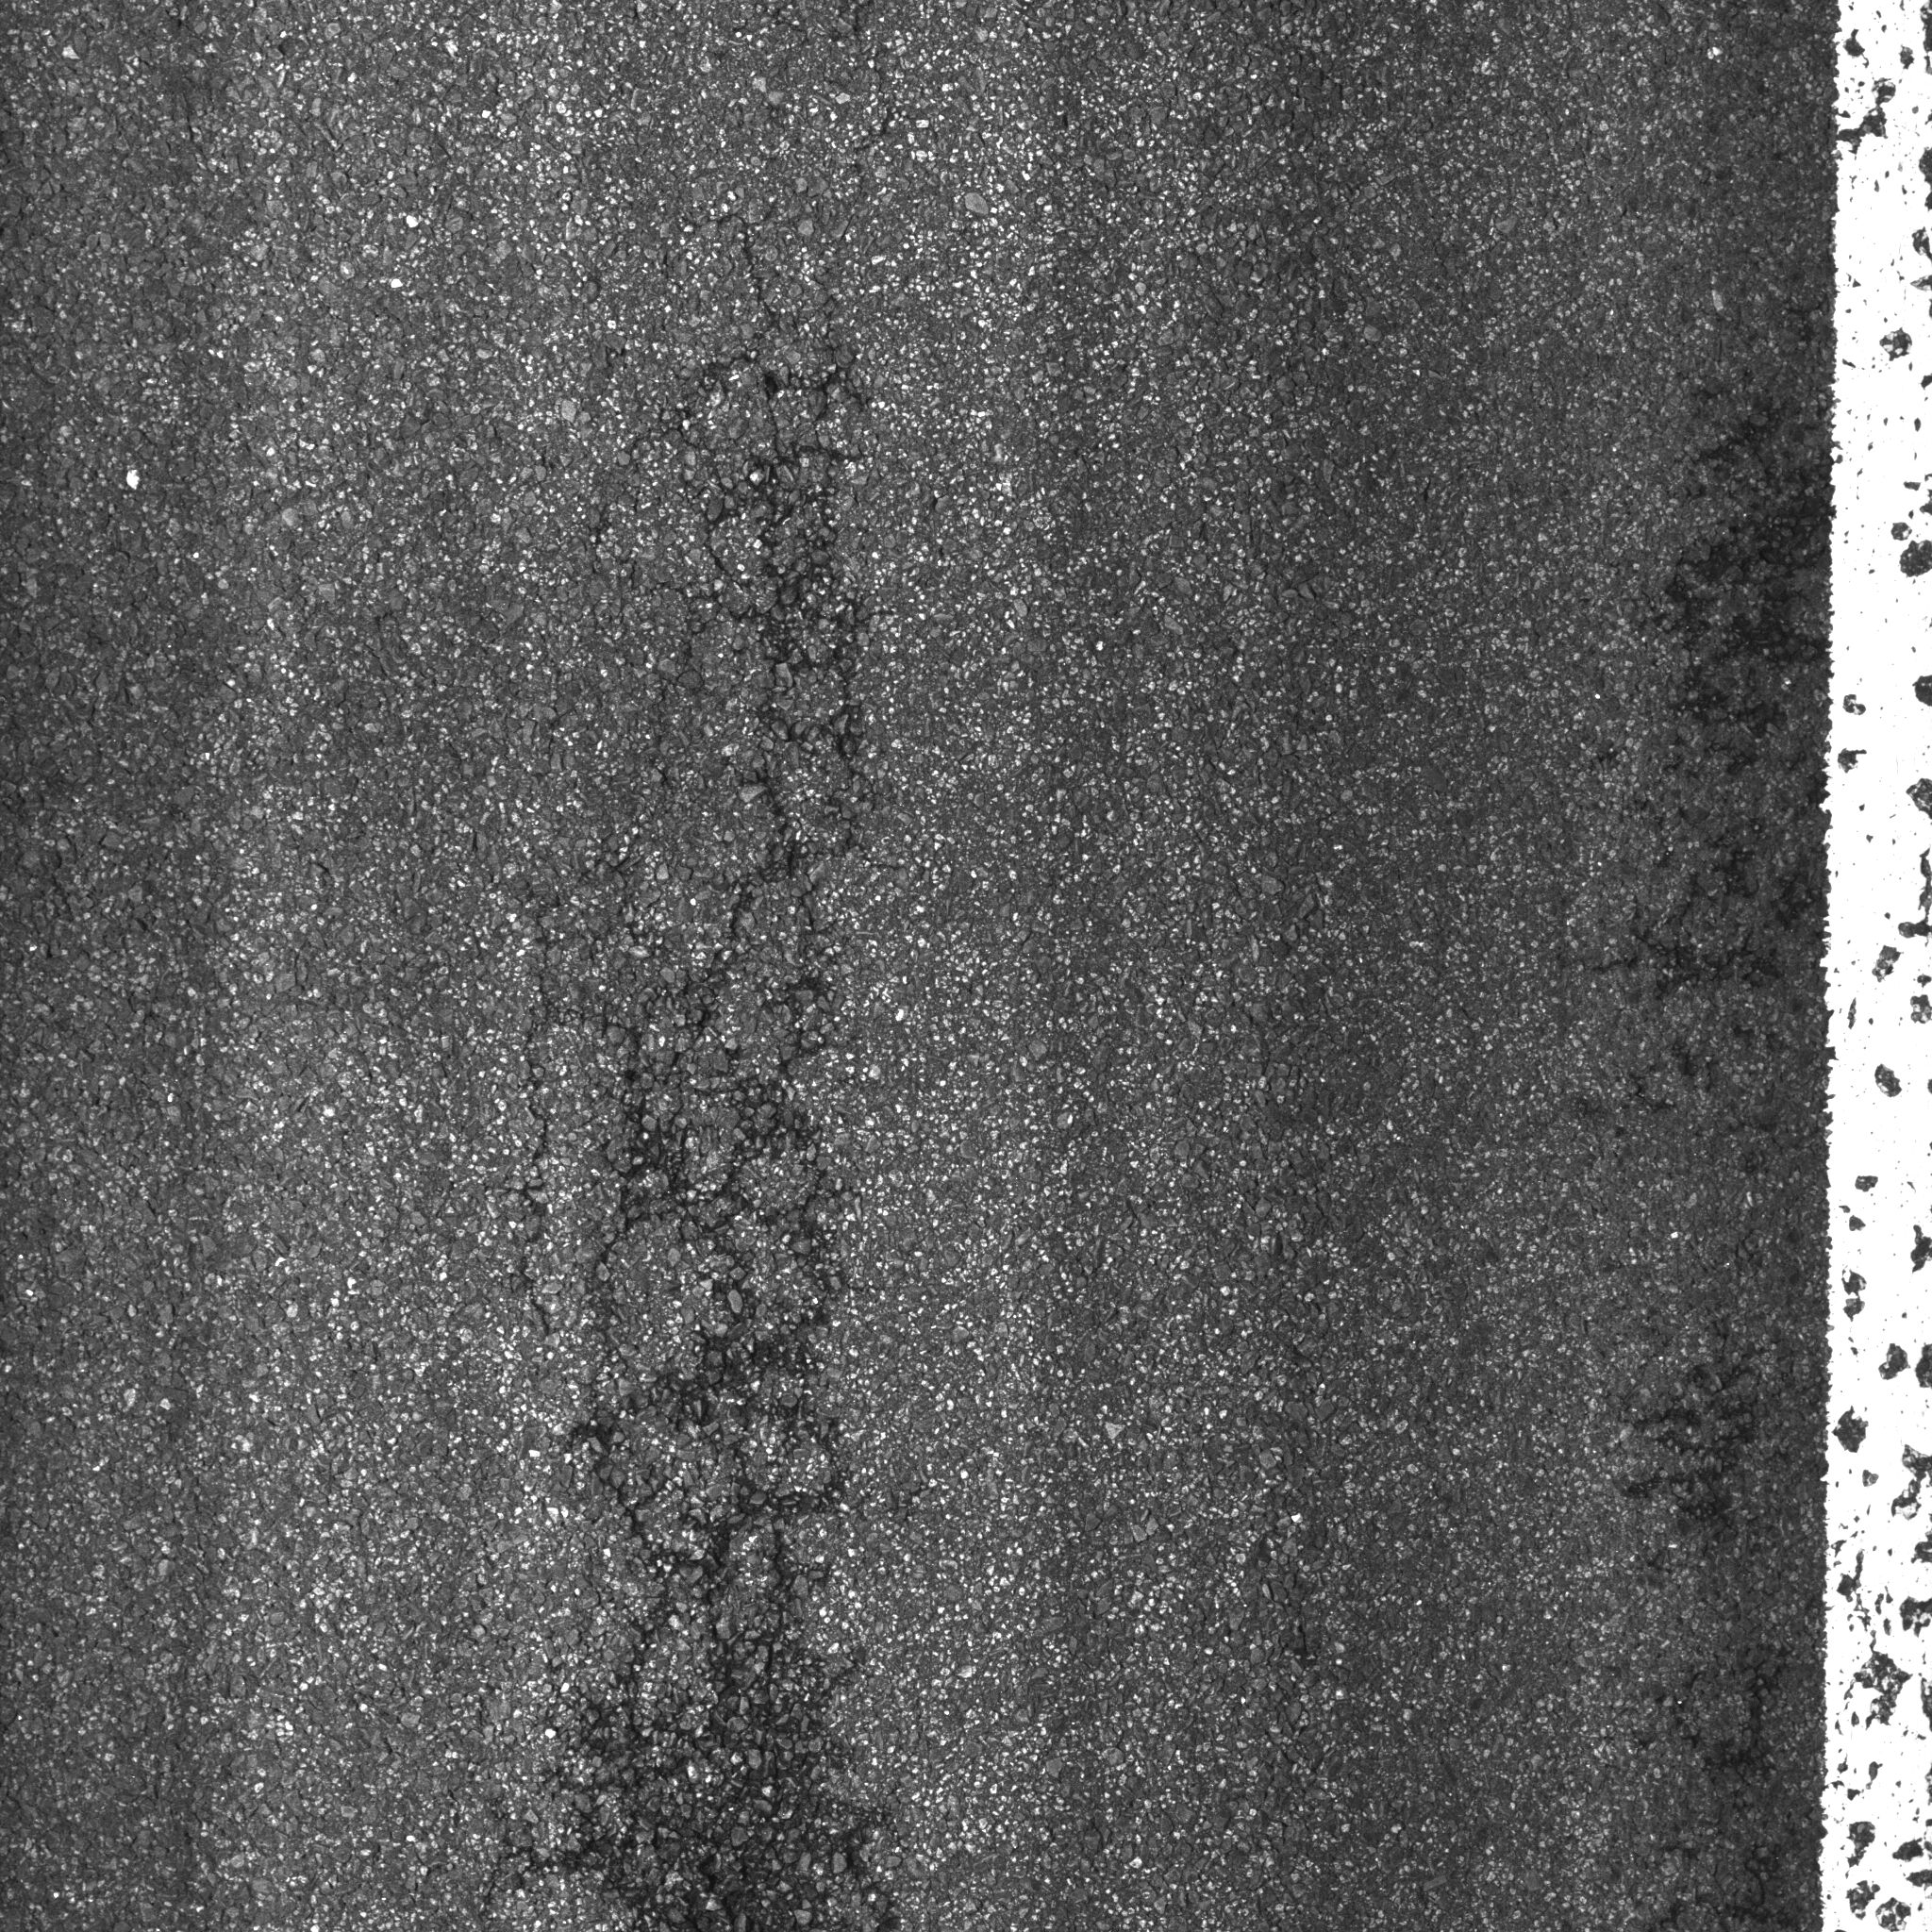alligator: (442, 219, 982, 1932)
